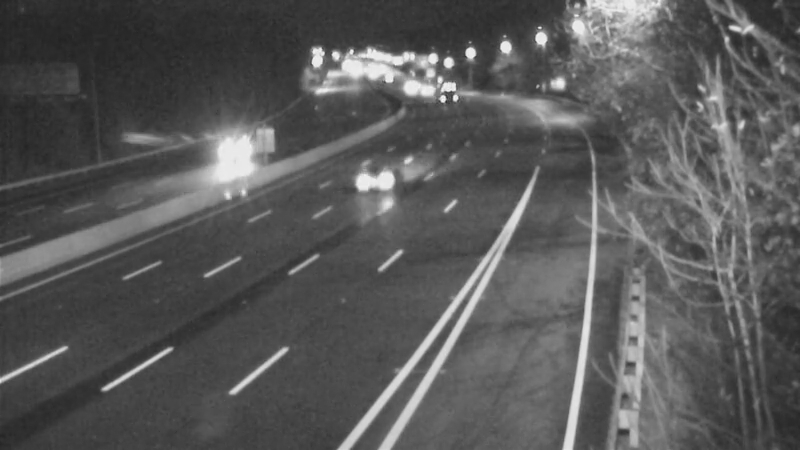vehicle: (325, 140, 405, 220), (192, 114, 272, 194), (385, 62, 435, 112), (401, 65, 451, 115), (413, 66, 463, 116)
